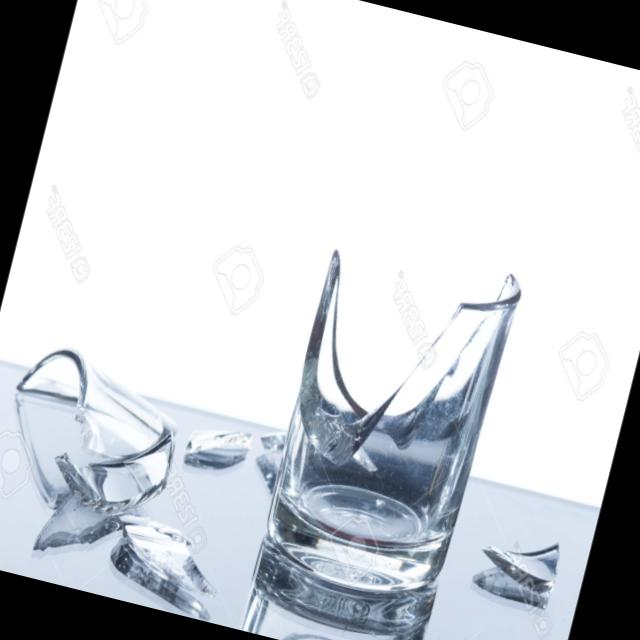PecahanKaca: (251, 228, 527, 612), (474, 522, 566, 600), (182, 417, 255, 478)
